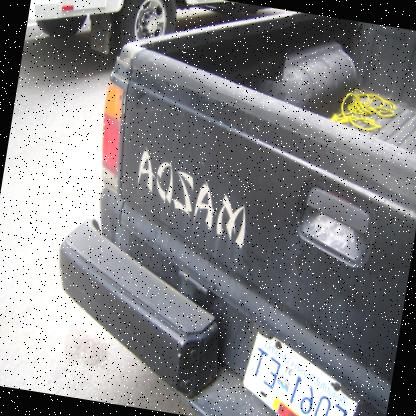Car: (24, 0, 294, 84)
